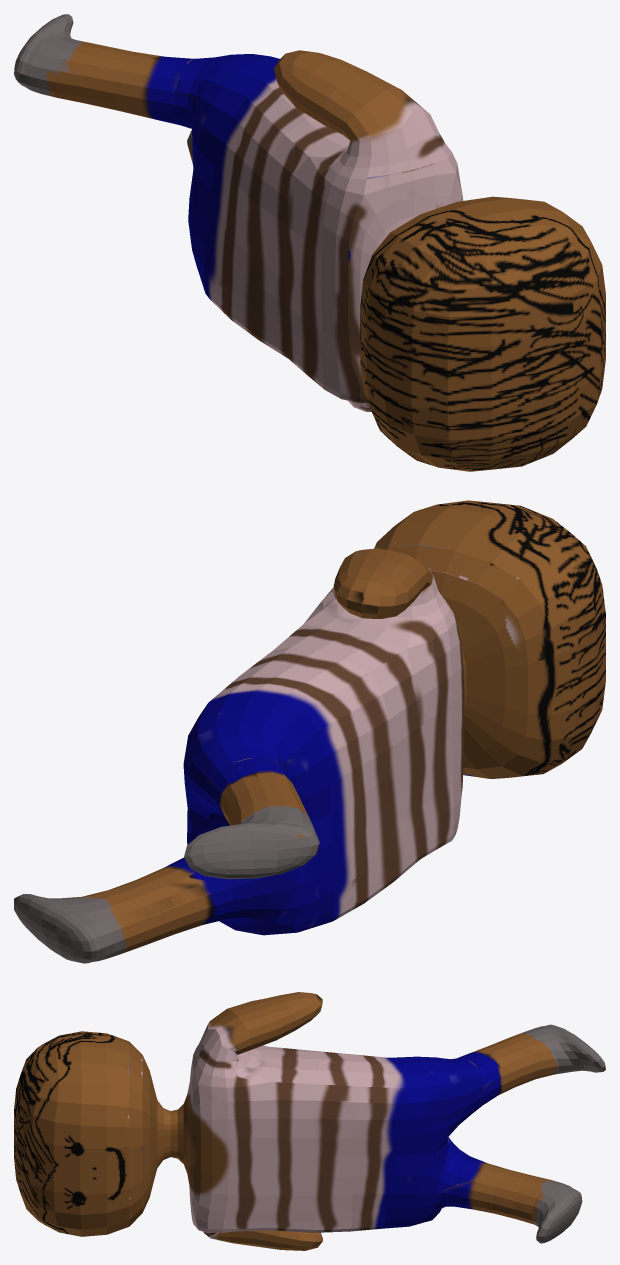
Rendered from antman_walk_2.obj.
The picture shows the model from 3 angles, top to bottom: view 1: azimuth 30°, elevation 25°; view 2: azimuth 150°, elevation 25°; view 3: azimuth 270°, elevation 25°; orthographic projection. The views are drawn at different scales.
Visible parts, largest first — view 1: Cube; view 2: Cube; view 3: Cube.
Part boxes in pixels (x1,y1,x2,y2): Cube: [14, 14, 605, 471]; Cube: [14, 500, 605, 963]; Cube: [14, 992, 605, 1250].
Bounding box in the file's own units: 0.8329 × 0.8482 × 1.95.
